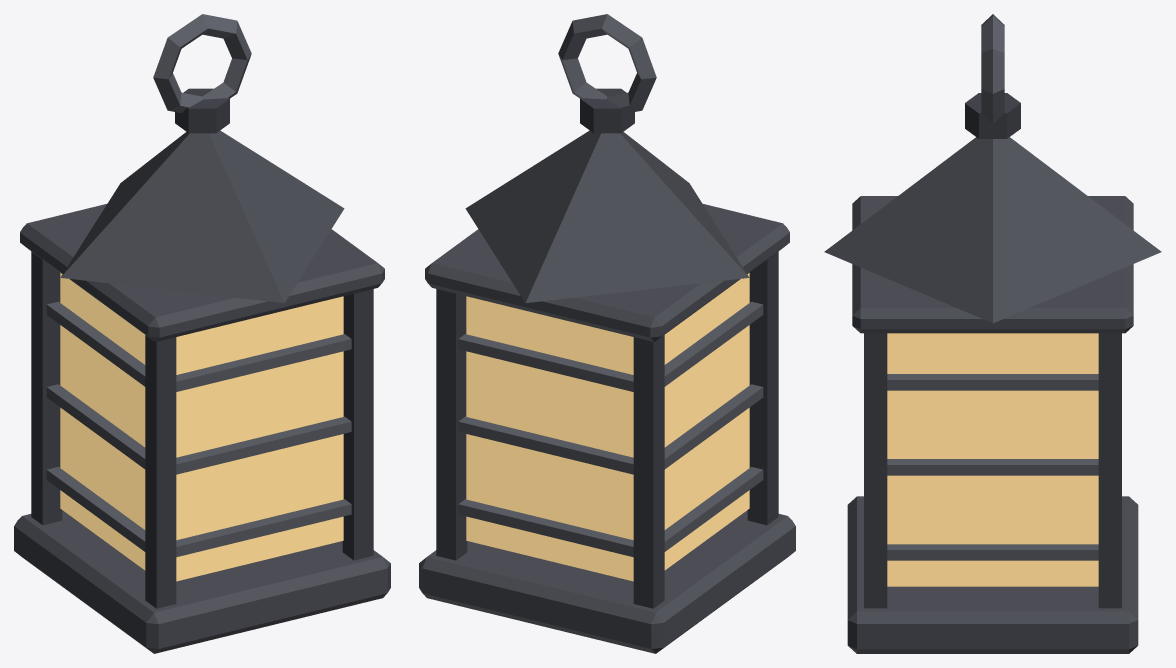
File: lantern.glb
3 renders of one model, left to right at view 1: azimuth 30°, elevation 25°; view 2: azimuth 150°, elevation 25°; view 3: azimuth 270°, elevation 25°, orthographic. The views are drawn at different scales.
Visible parts, largest first — view 1: Iron, Glass; view 2: Iron, Glass; view 3: Iron, Glass.
Boxes of the visible parts, x1,y1,x2,y2 form: Iron: (14,14,390,653); Glass: (60,273,343,581); Iron: (419,14,795,653); Glass: (466,273,749,581); Iron: (824,14,1161,653); Glass: (887,333,1098,586).
Size of the model in its own units: 0.72 by 1.37 by 0.72.
4 materials, 4 textured.
